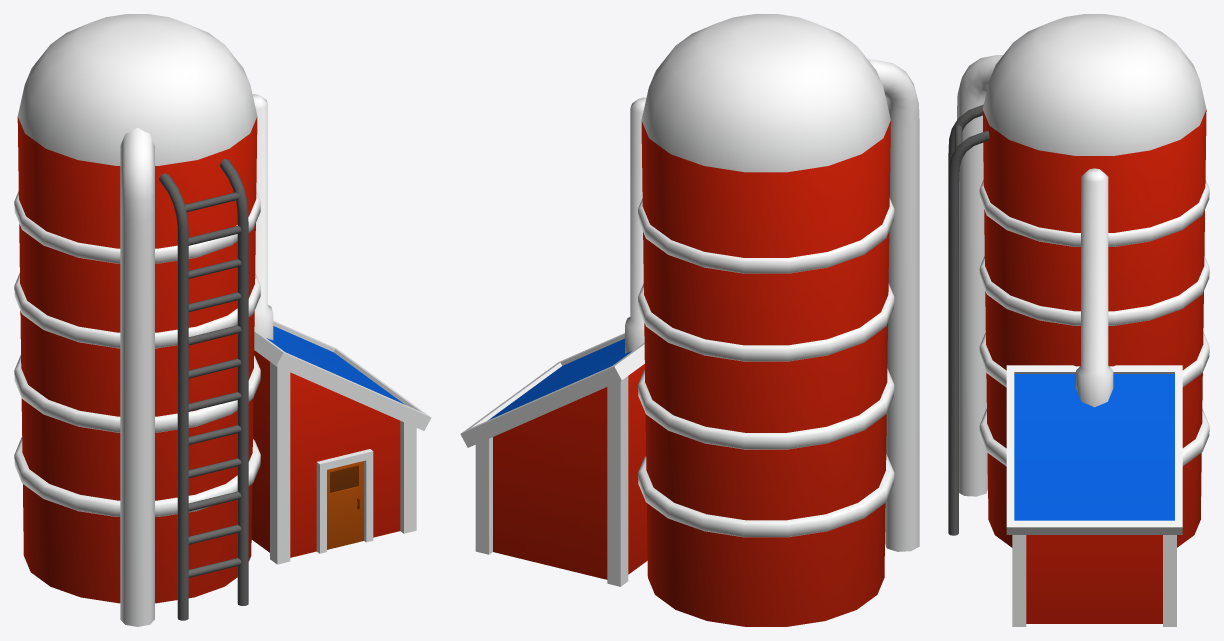
The model's file is Farm_House_Silo_02.fbx.
The picture shows the model from 3 angles, left to right: view 1: azimuth 30°, elevation 25°; view 2: azimuth 150°, elevation 25°; view 3: azimuth 270°, elevation 25°; orthographic projection. The views are drawn at different scales.
Visible parts, largest first — view 1: Farm_House_Silo_02; view 2: Farm_House_Silo_02; view 3: Farm_House_Silo_02.
Part boxes in pixels (x1,y1,x2,y2): Farm_House_Silo_02: [14, 14, 431, 626]; Farm_House_Silo_02: [460, 14, 919, 626]; Farm_House_Silo_02: [948, 14, 1209, 626].
Size of the model in its own units: 638 by 904 by 440.
